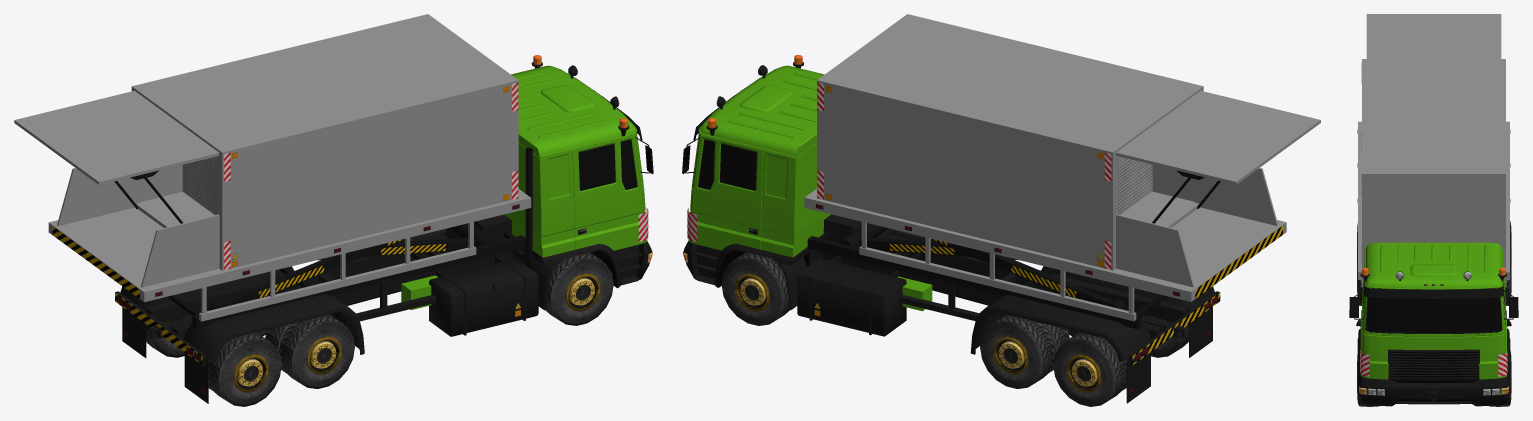
The model's file is container.FBX.
The picture shows the model from 3 angles, left to right: view 1: azimuth 30°, elevation 25°; view 2: azimuth 150°, elevation 25°; view 3: azimuth 270°, elevation 25°; orthographic projection. The views are drawn at different scales.
Parts seen in each view (by area): view 1: Line001, Cylinder002vv, Cylinder002vv003, Cylinder014vf; view 2: Line001, Cylinder002vv001, Cylinder002vv002, Cylinder014vf001; view 3: Line001, Cylinder014vf001, Cylinder002vv001.
Part boxes in pixels (x1,y1,x2,y2): Line001: [14, 14, 653, 403]; Cylinder002vv: [265, 314, 354, 388]; Cylinder002vv003: [208, 332, 281, 406]; Cylinder014vf: [546, 252, 613, 325]; Line001: [682, 14, 1320, 403]; Cylinder002vv001: [980, 314, 1069, 388]; Cylinder002vv002: [1053, 332, 1126, 406]; Cylinder014vf001: [721, 252, 789, 325]; Line001: [1349, 14, 1518, 406]; Cylinder014vf001: [1489, 350, 1511, 406]; Cylinder002vv001: [1505, 249, 1511, 305].
Bounding box in the file's own units: 66.23 × 29.06 × 21.61.
